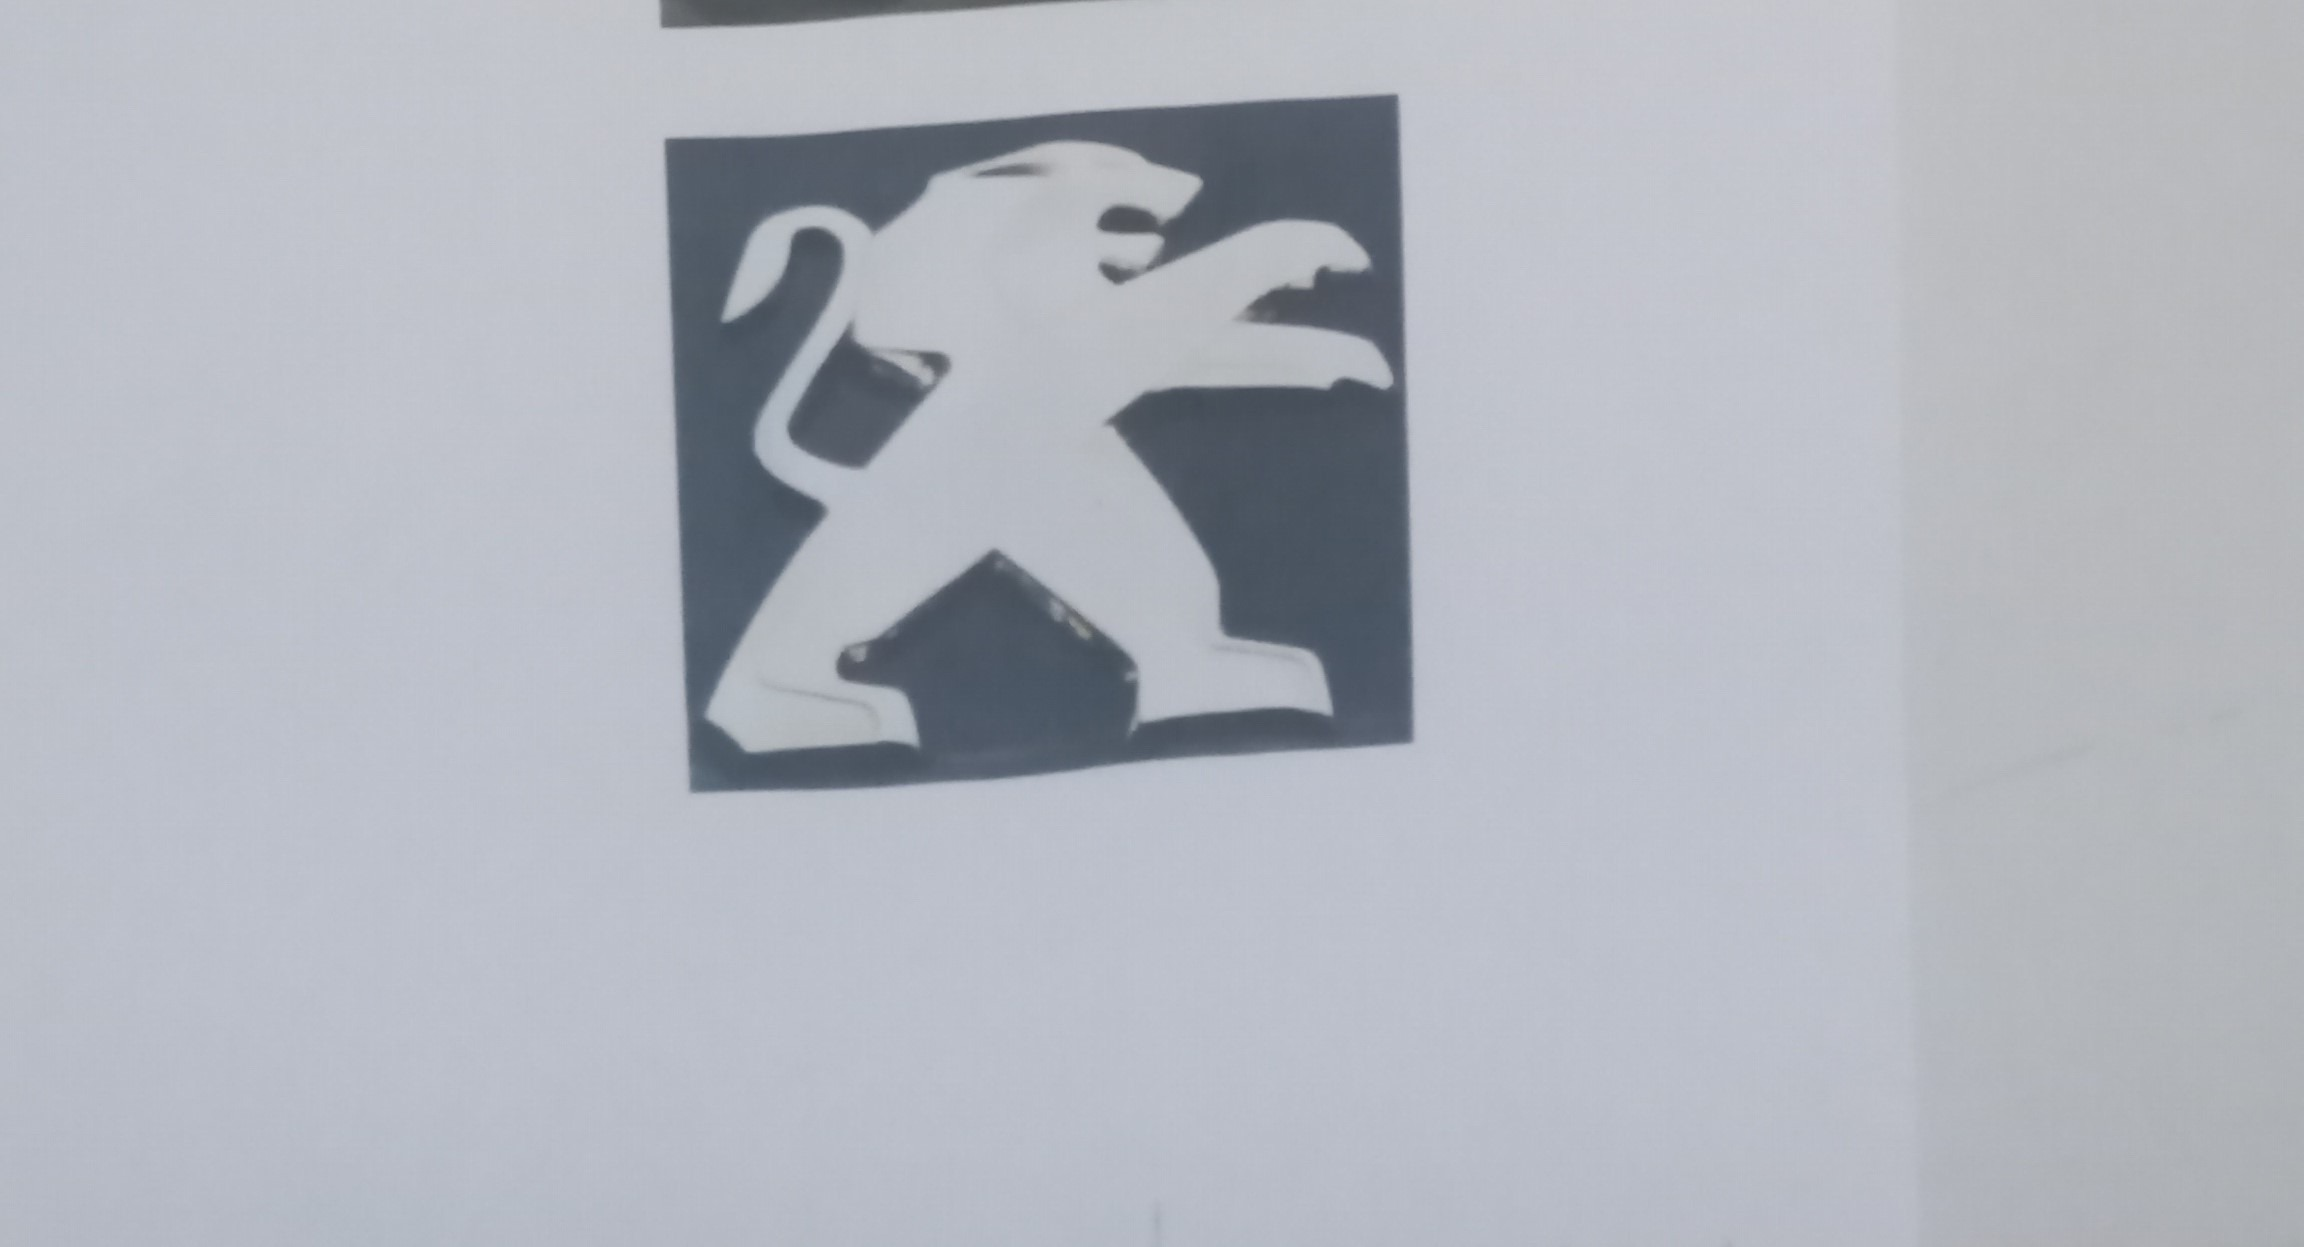Peugeot: (680, 127, 1405, 766)
